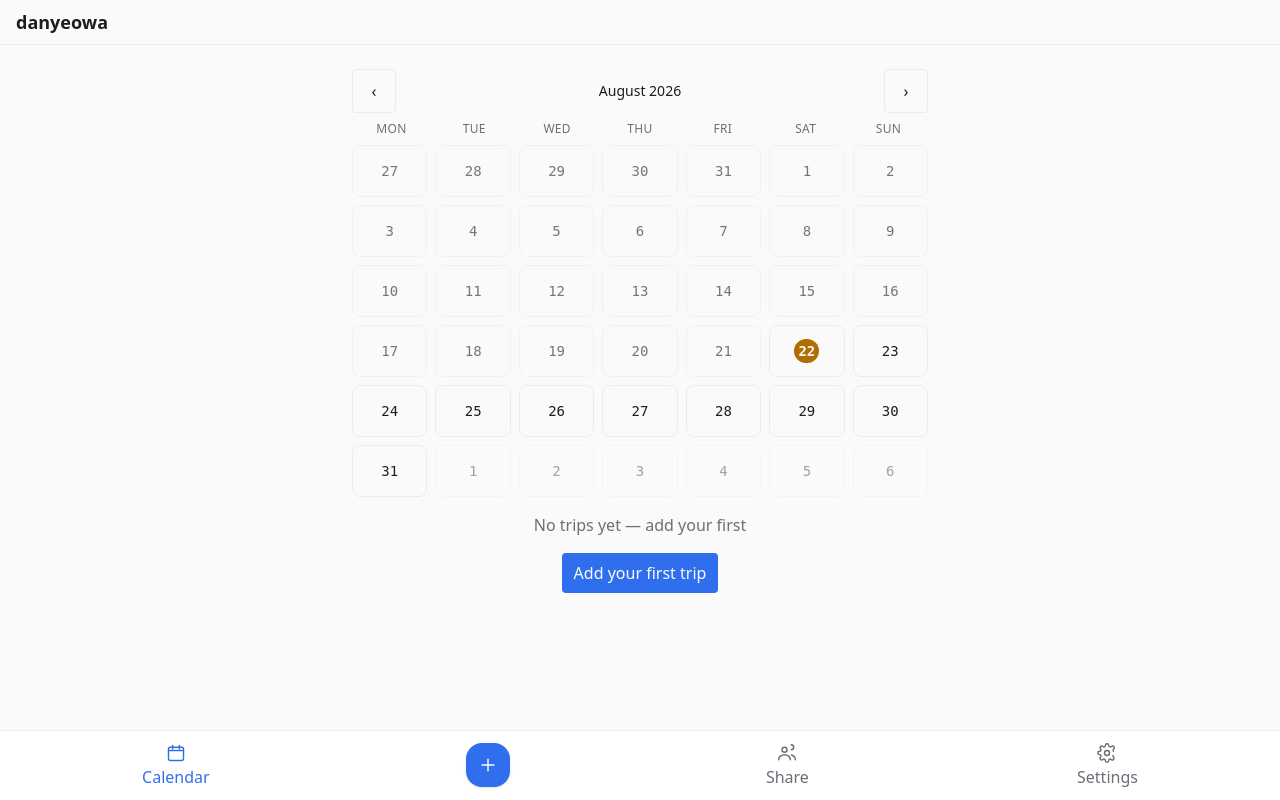
it: App › switches views when a tab is clicked
Expected: the button with test id "tab-calendar" is shown, [130,739,222,792]
Click the button with test id "tab-share" at (787, 765), box [754,739,821,792]
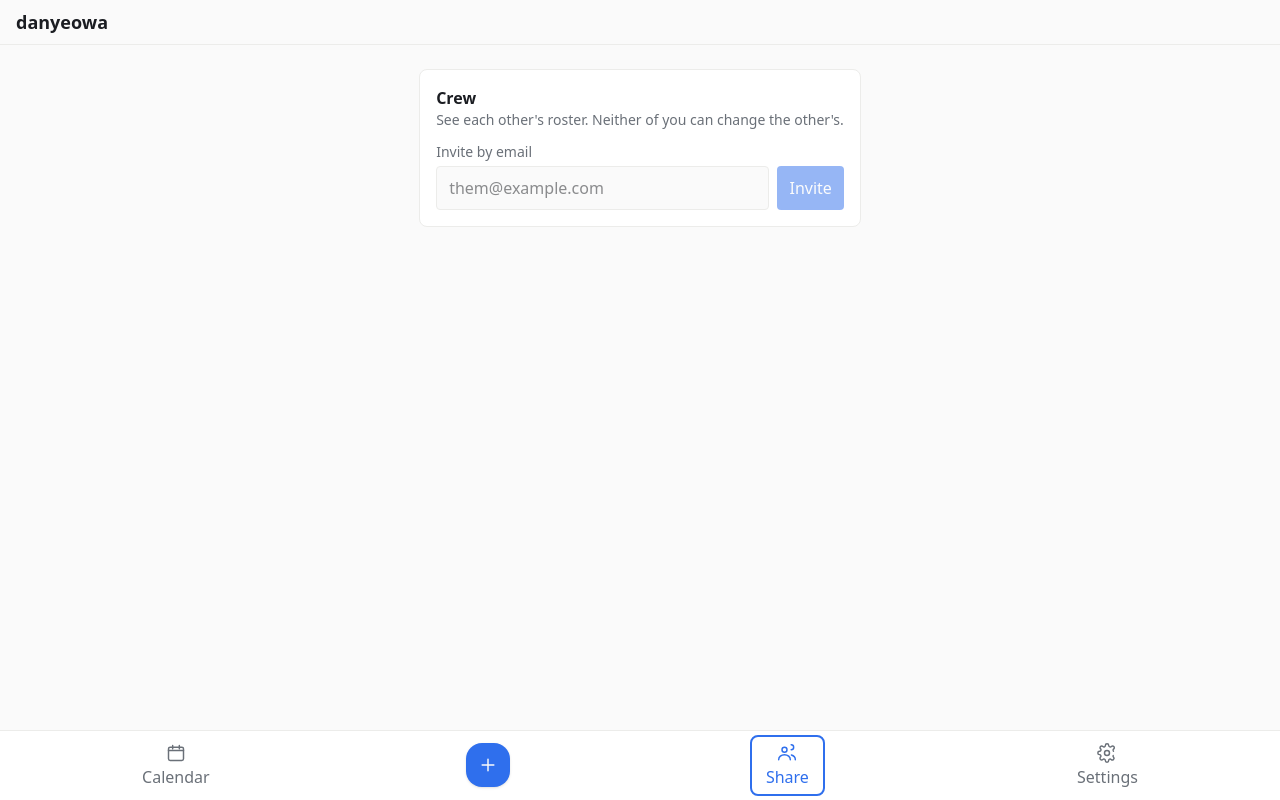
Now the element with test id "crew-panel" is shown, box [419,69,861,227]
Click the button with test id "tab-settings" at (1107, 765), box [1065,739,1150,792]
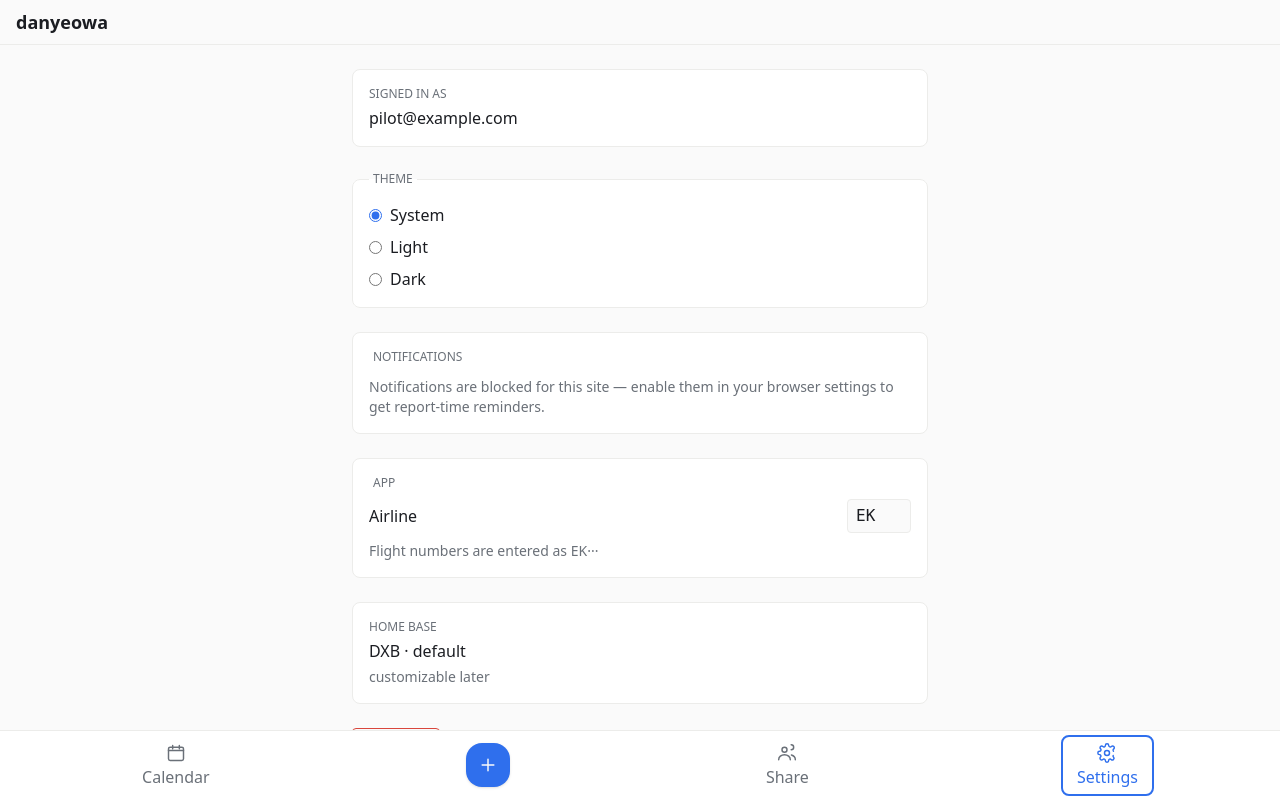
Now the text "pilot@example.com" is shown, box [369,107,518,129]
